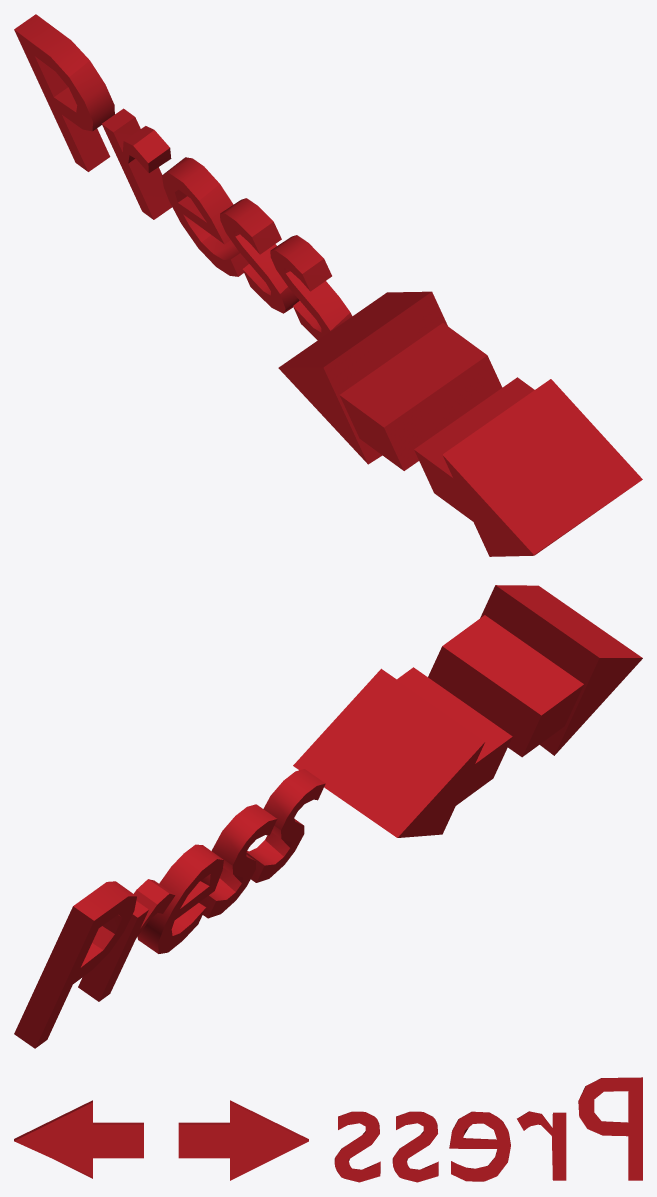
The model's file is press.glb.
3 views of the same model, one above another, from view 1: azimuth 30°, elevation 25°; view 2: azimuth 150°, elevation 25°; view 3: azimuth 270°, elevation 25° (orthographic). The views are drawn at different scales.
Parts seen in each view (by area): view 1: Cube.008, Press; view 2: Cube.008, Press; view 3: Press, Cube.008.
Boxes of the visible parts, x1=… form: Cube.008: x1=278, y1=291, x2=642, y2=556; Press: x1=14, y1=14, x2=352, y2=340; Cube.008: x1=293, y1=585, x2=642, y2=837; Press: x1=14, y1=769, x2=325, y2=1048; Press: x1=334, y1=1077, x2=642, y2=1182; Cube.008: x1=14, y1=1100, x2=308, y2=1180.
Bounding box in the file's own units: 4.28 × 4.92 × 26.
